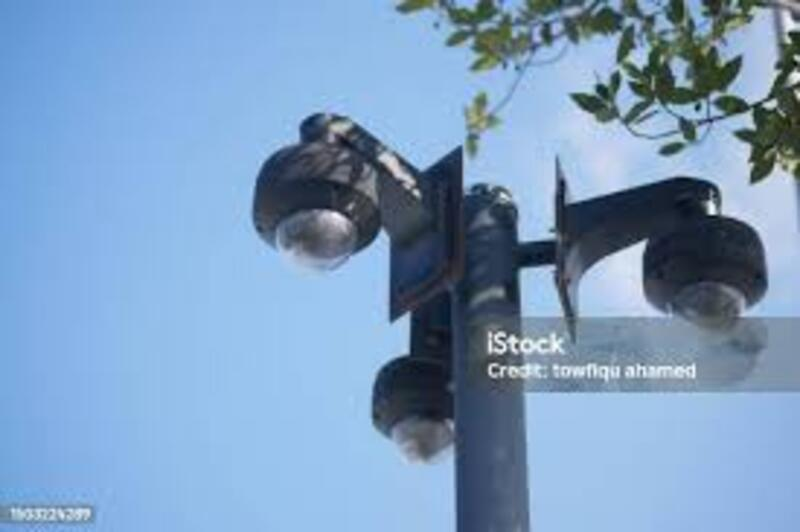dome: (248, 141, 376, 282), (644, 213, 768, 336), (365, 356, 456, 482)
